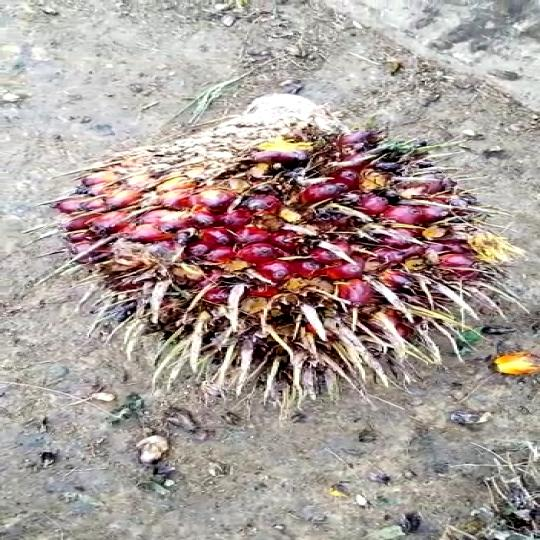masak: (55, 126, 499, 375)
